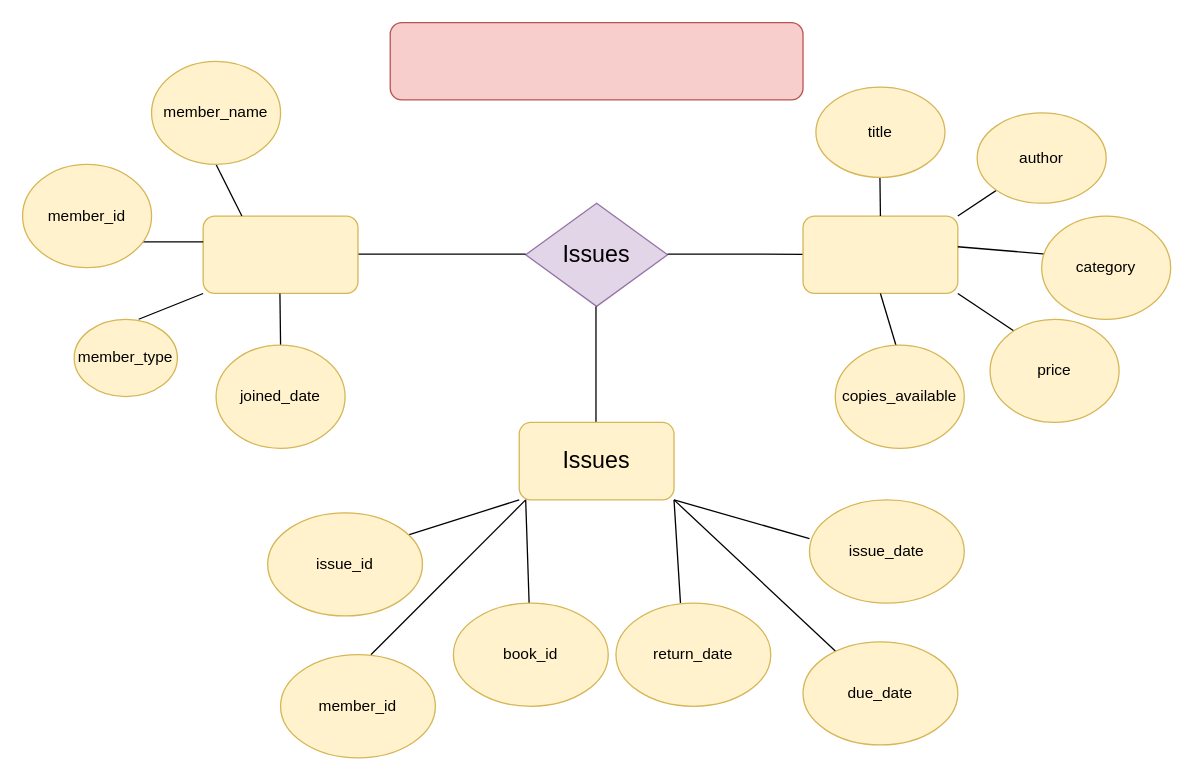
Some shapes in this 1193 by 780 pixel diagram are drawn without their labels. The shapes that lost their labels are listed below. From the top down, each one's centre as x and y in pixels, then its label:
At point 596,60: "College Library Management System".
At point 280,254: "Members".
At point 880,254: "Books".
